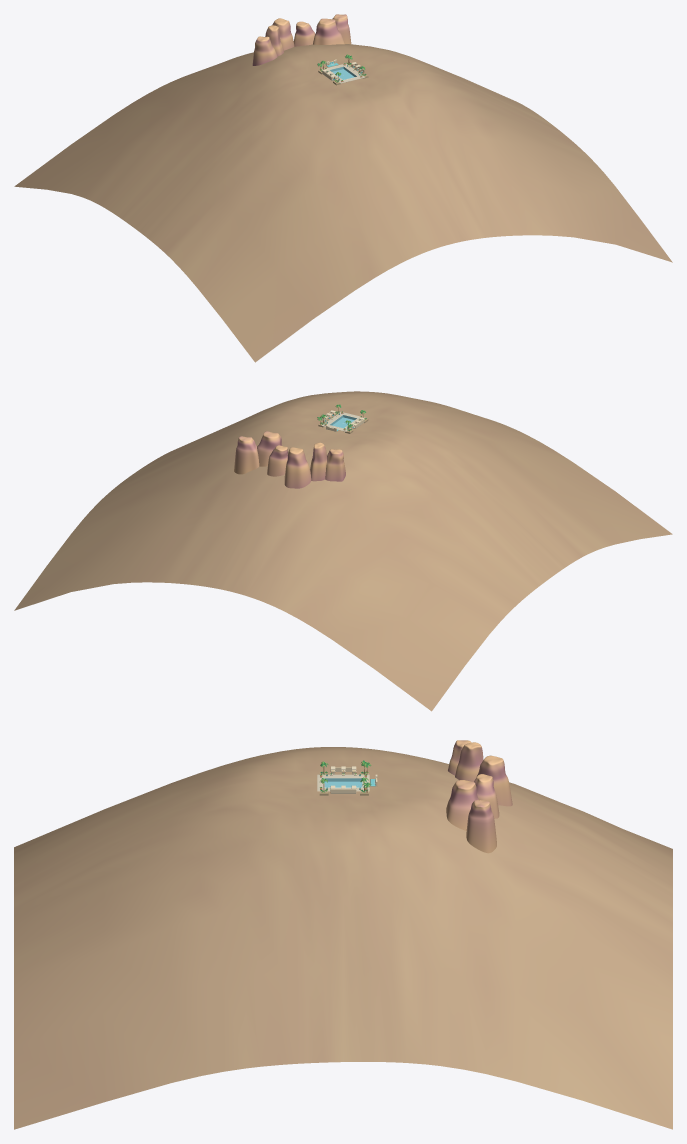
Rendered from desert.glb.
3 renders of one model, top to bottom at view 1: azimuth 30°, elevation 25°; view 2: azimuth 150°, elevation 25°; view 3: azimuth 270°, elevation 25°, orthographic. The views are drawn at different scales.
Visible parts, largest first — view 1: Architecture; view 2: Architecture; view 3: Architecture.
Part boxes in pixels (x1=…): Architecture: x1=14, y1=14, x2=672, y2=362; Architecture: x1=14, y1=391, x2=672, y2=711; Architecture: x1=14, y1=740, x2=672, y2=1129.
Size of the model in its own units: 440 by 170 by 440.
